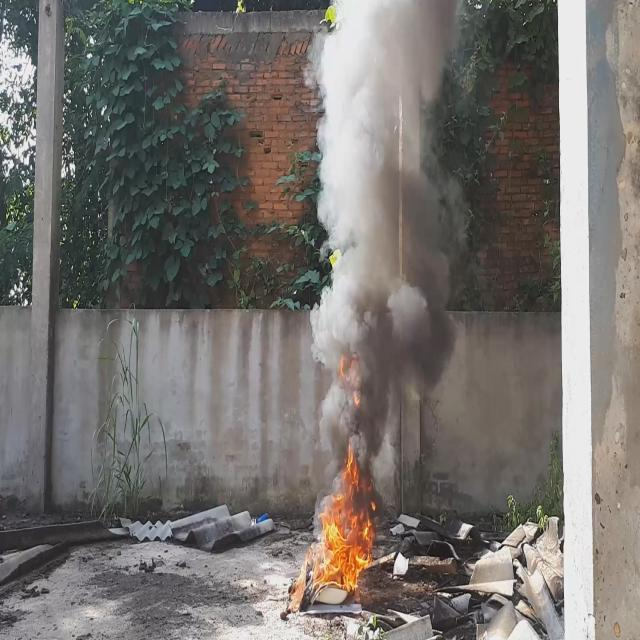Fire: (314, 443, 378, 592)
Smoke: (310, 0, 462, 469)
